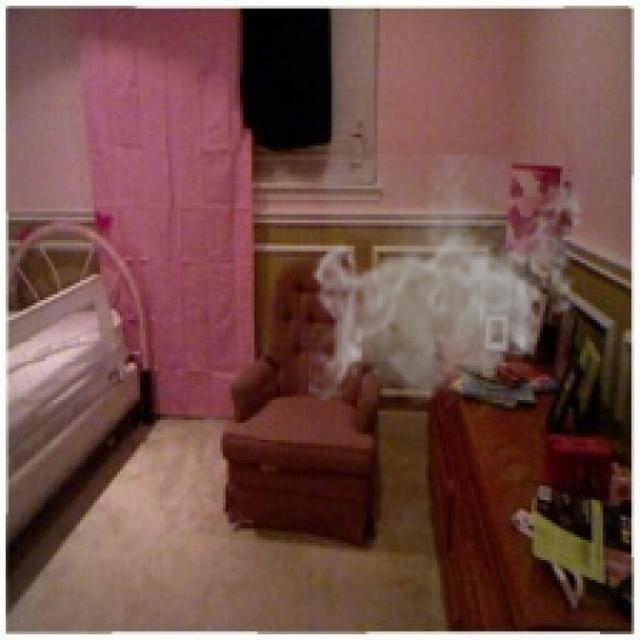smoke: (308, 154, 592, 414)
